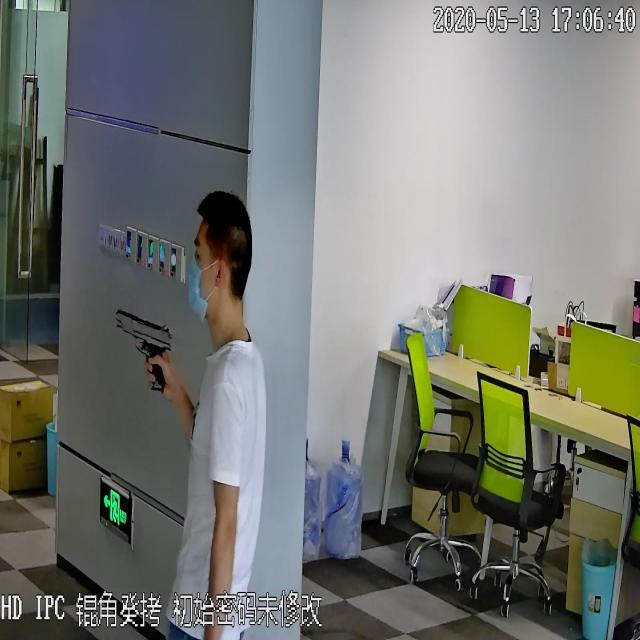gun: (109, 298, 175, 400)
